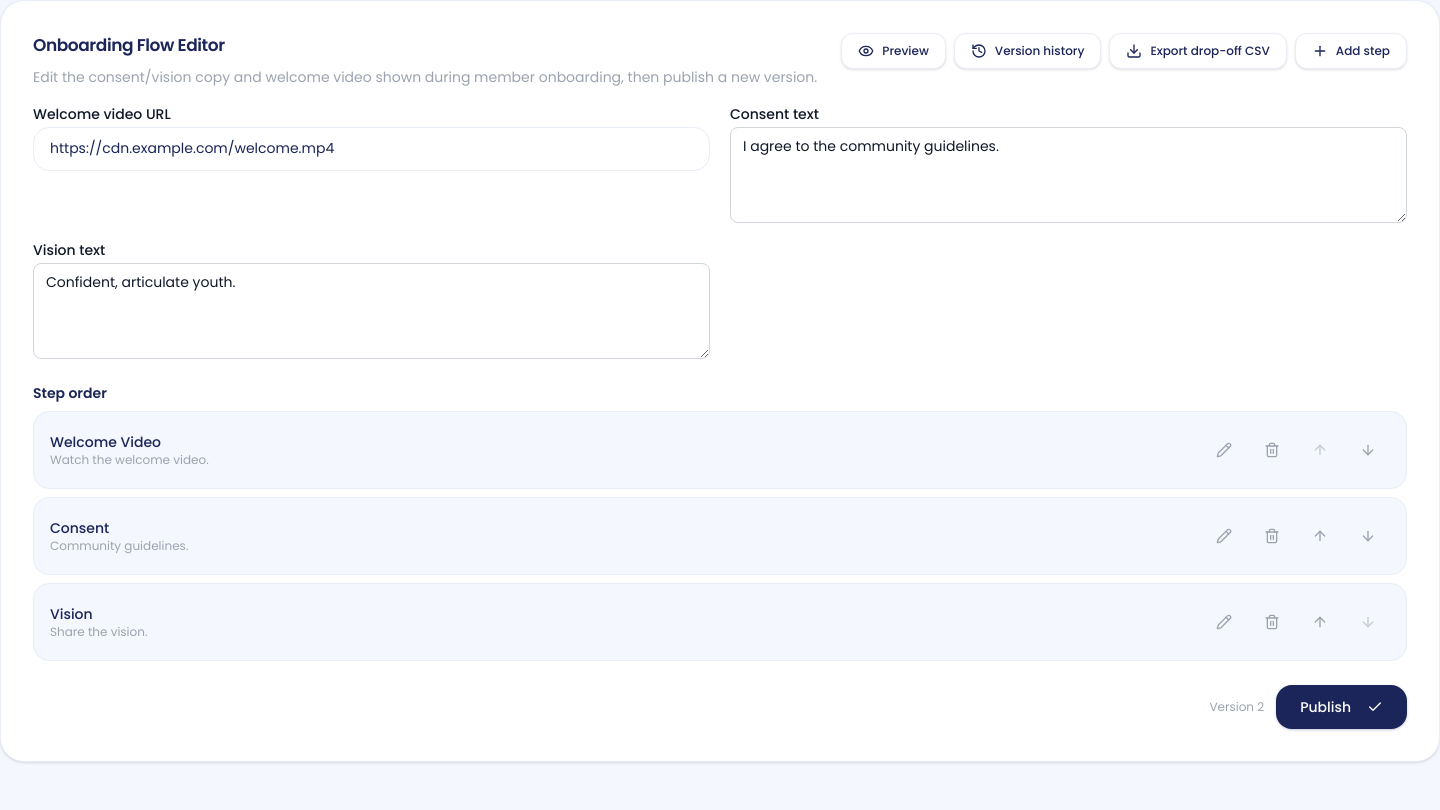
Test: FlowEditor preview › renders every configured onboarding screen read-only in the preview
Expected: the heading "Onboarding Flow Editor" is shown, [33,33,225,57]
Click the button "Preview": [894, 51] box [841,33,946,69]
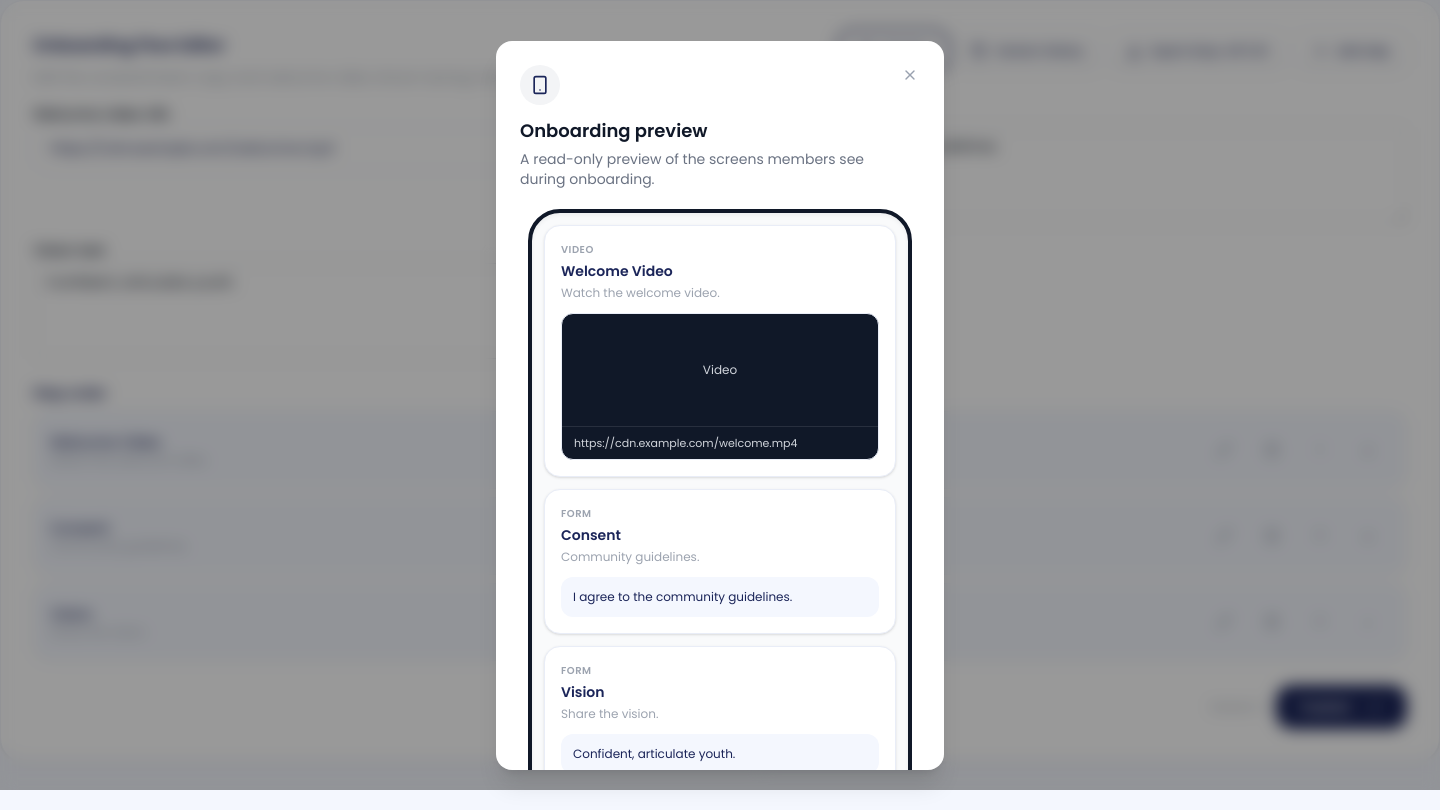
Now the text "Welcome Video" is shown, box [561,260,673,280]
Now the text "Consent" is shown, box [561,525,621,545]
Now the text "Vision" is shown, box [561,682,605,702]
